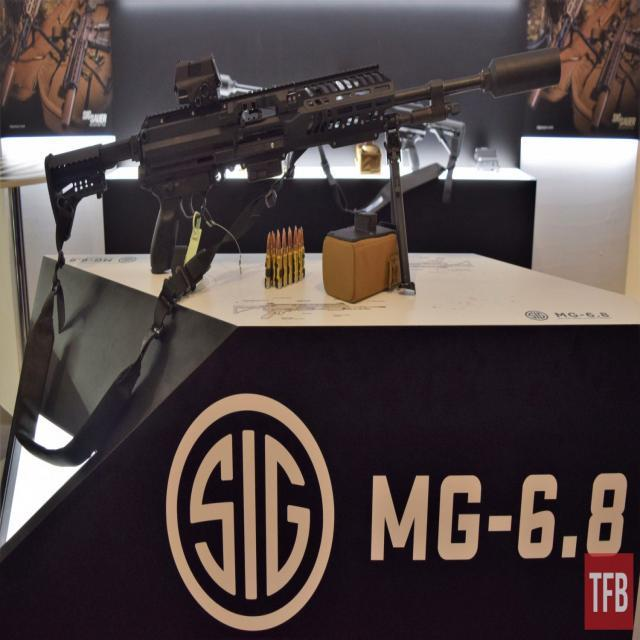weapon: (43, 44, 562, 244)
